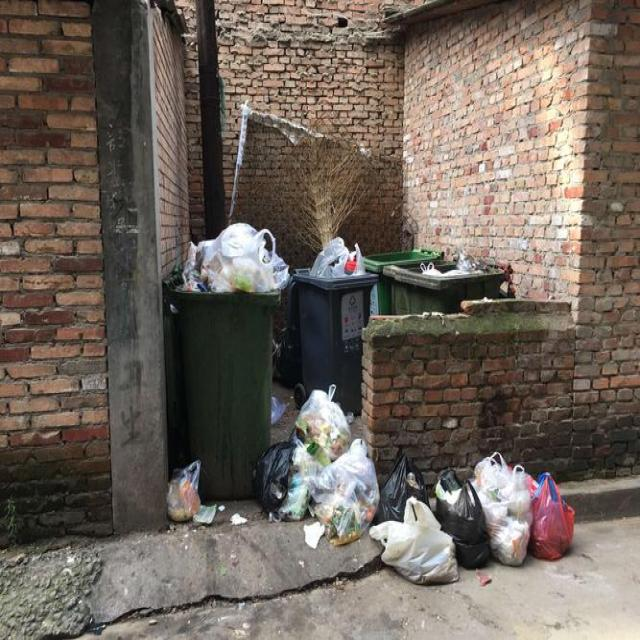garbage: (167, 384, 571, 585)
overflow: (161, 222, 290, 499), (288, 234, 376, 412)
